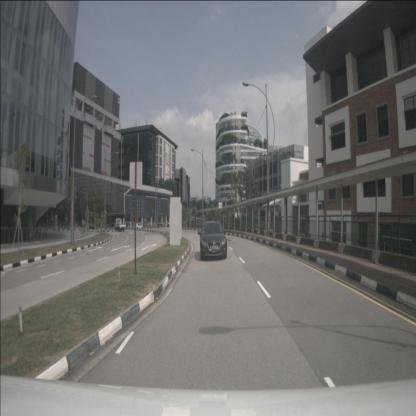vehicle-car: (200, 221, 227, 260), (87, 223, 95, 230), (134, 223, 142, 230)
vehicle-truck: (114, 218, 126, 232)
